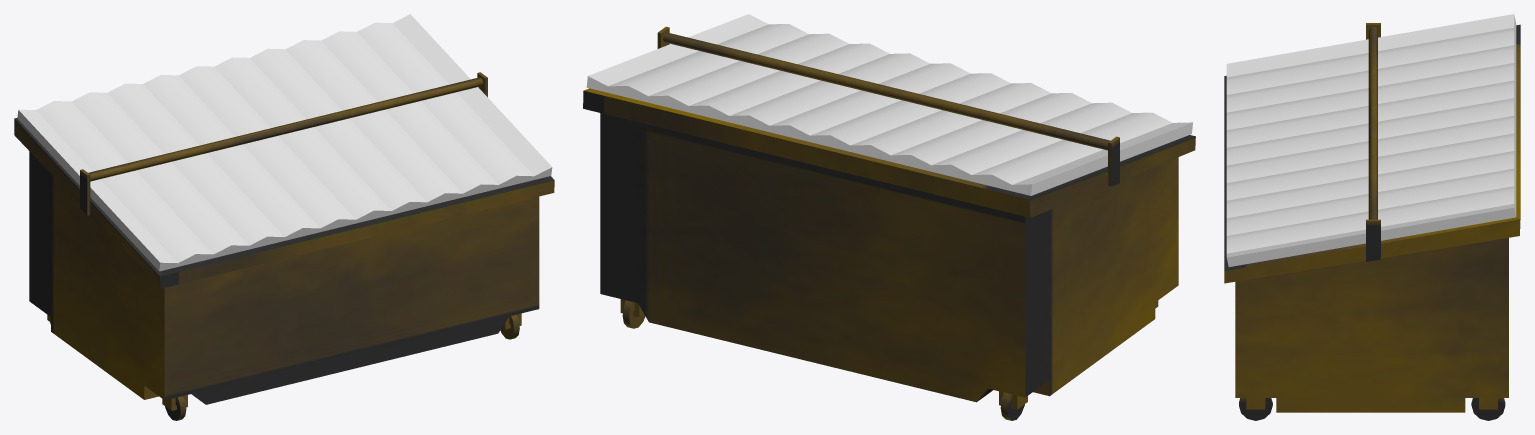
Rendered from trashCan.fbx.
3 views of the same model, side by side, from view 1: azimuth 30°, elevation 25°; view 2: azimuth 150°, elevation 25°; view 3: azimuth 270°, elevation 25° (orthographic). The views are drawn at different scales.
Parts seen in each view (by area): view 1: Cube.007, Cube.008, Cube.009, Cylinder.005; view 2: Cube.007, Cube.008, Cube.009, Cylinder.005; view 3: Cube.008, Cube.007, Cube.009, Cylinder.005.
Part boxes in pixels (x1=…): Cube.007: x1=14, y1=118, x2=554, y2=404; Cube.008: x1=17, y1=14, x2=552, y2=271; Cube.009: x1=80, y1=72, x2=487, y2=215; Cylinder.005: x1=47, y1=313, x2=521, y2=420; Cube.007: x1=583, y1=88, x2=1195, y2=402; Cube.008: x1=586, y1=14, x2=1192, y2=195; Cube.009: x1=657, y1=26, x2=1119, y2=186; Cylinder.005: x1=620, y1=299, x2=1158, y2=420; Cube.008: x1=1226, y1=14, x2=1516, y2=266; Cube.007: x1=1224, y1=24, x2=1520, y2=412; Cube.009: x1=1366, y1=23, x2=1380, y2=261; Cylinder.005: x1=1239, y1=398, x2=1505, y2=420.
Size of the model in its own units: 246 by 131 by 156.
